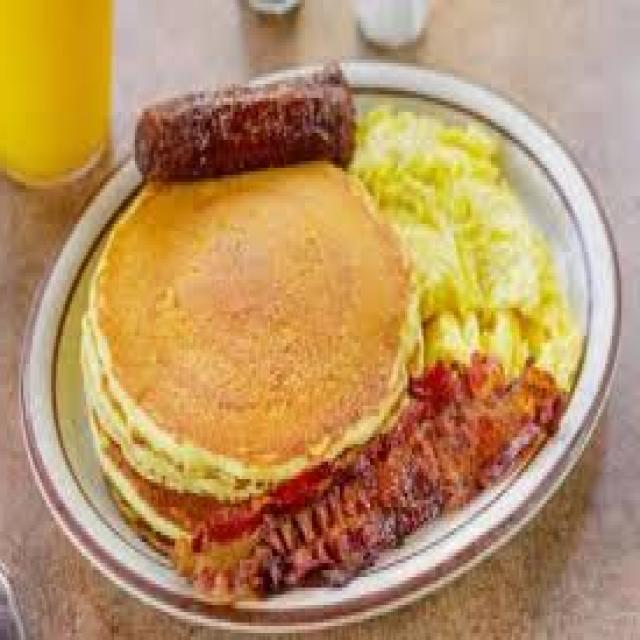Omelette: (363, 98, 584, 364)
Pancakes: (86, 157, 419, 538)
